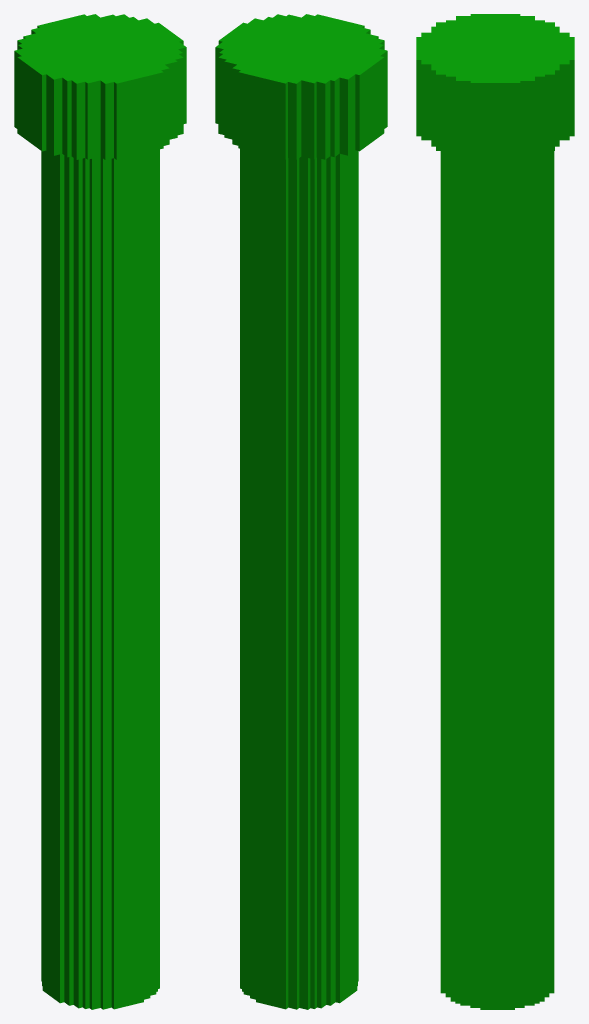
The picture shows the model from 3 angles, left to right: view 1: azimuth 30°, elevation 25°; view 2: azimuth 150°, elevation 25°; view 3: azimuth 270°, elevation 25°; orthographic projection.
Visible parts, largest first — view 1: SM_Tube; view 2: SM_Tube; view 3: SM_Tube.
Part boxes in pixels (bbox=[...]): SM_Tube: bbox=[14, 14, 186, 1009]; SM_Tube: bbox=[215, 14, 387, 1009]; SM_Tube: bbox=[416, 14, 574, 1009].
Size of what is drawn, in the model's own units: 33 by 32 by 209.
